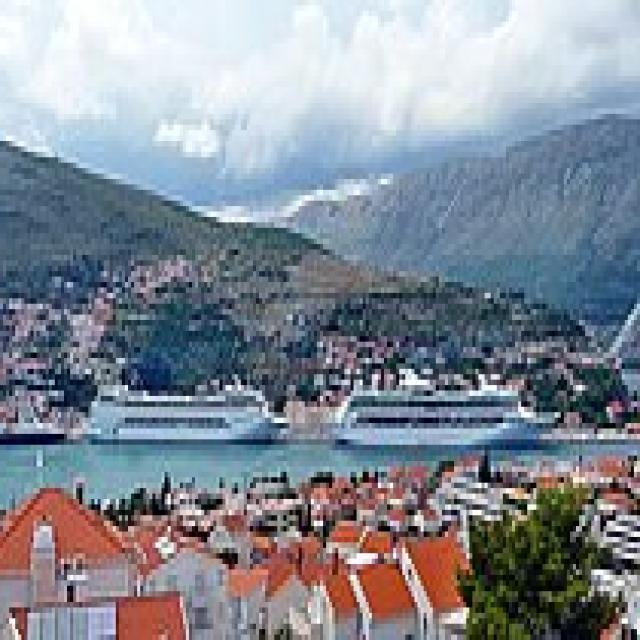Cruise: (335, 374, 570, 445), (92, 374, 296, 445)
